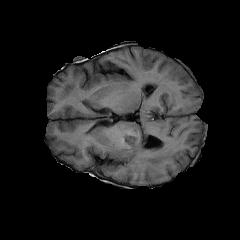glioma: (124, 135, 173, 169)
